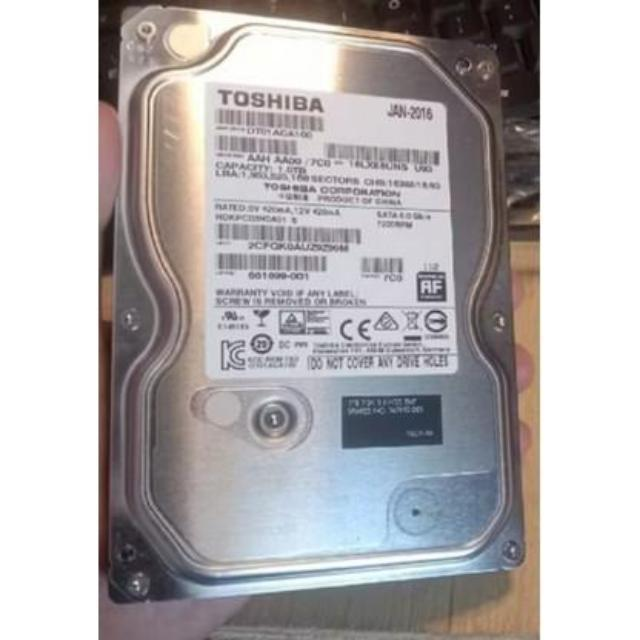DISK: (92, 0, 528, 620)
